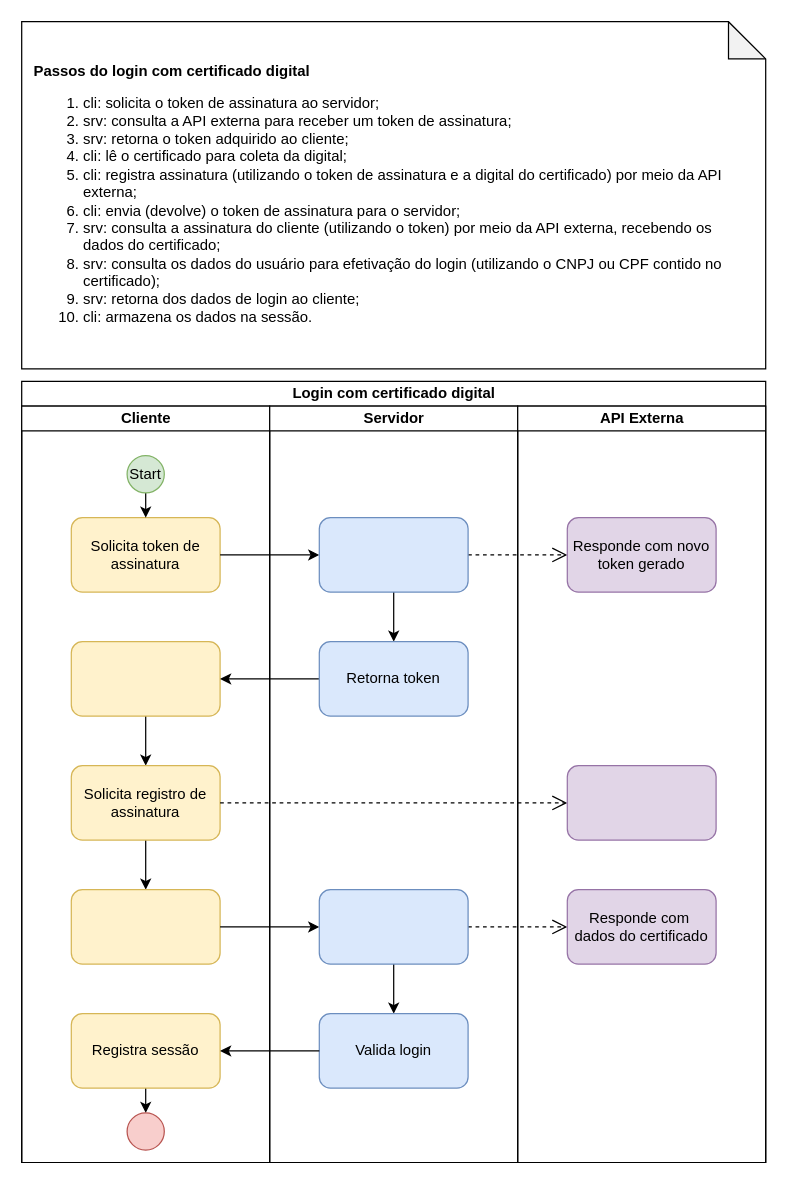
The diagram is 787 pixels wide and 1184 high, and some of its shapes have lost their labels. The shapes that lost their labels are listed below. From the top down, each one's centre as x and y in pixels, then its label:
the point at 393,554: Consulta token
the point at 145,678: Lê certificado
the point at 641,802: Assinatura resgistrada
the point at 145,926: Envia token de assinatura
the point at 393,926: Consulta certificado
the point at 145,1131: End
